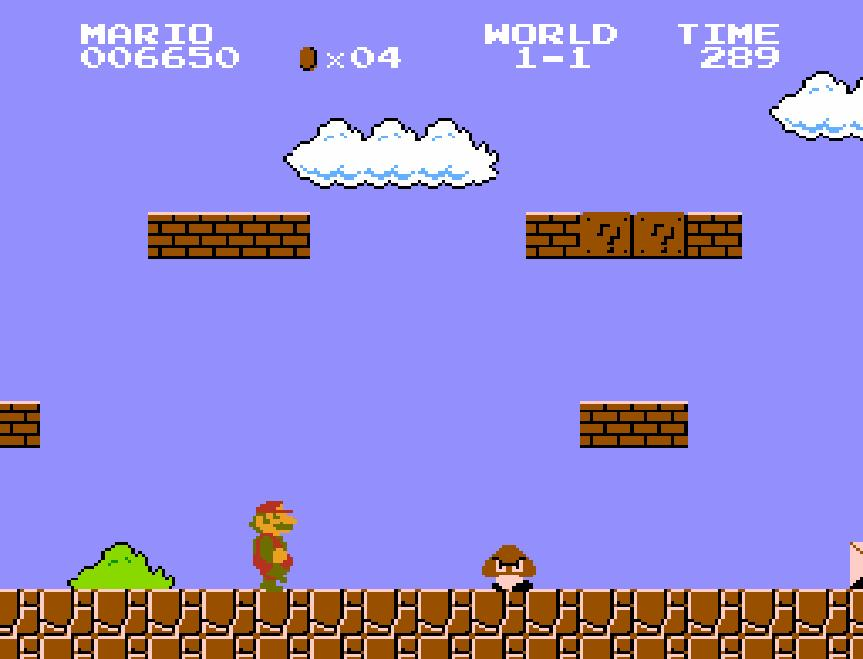big_mario: (244, 496, 302, 594)
